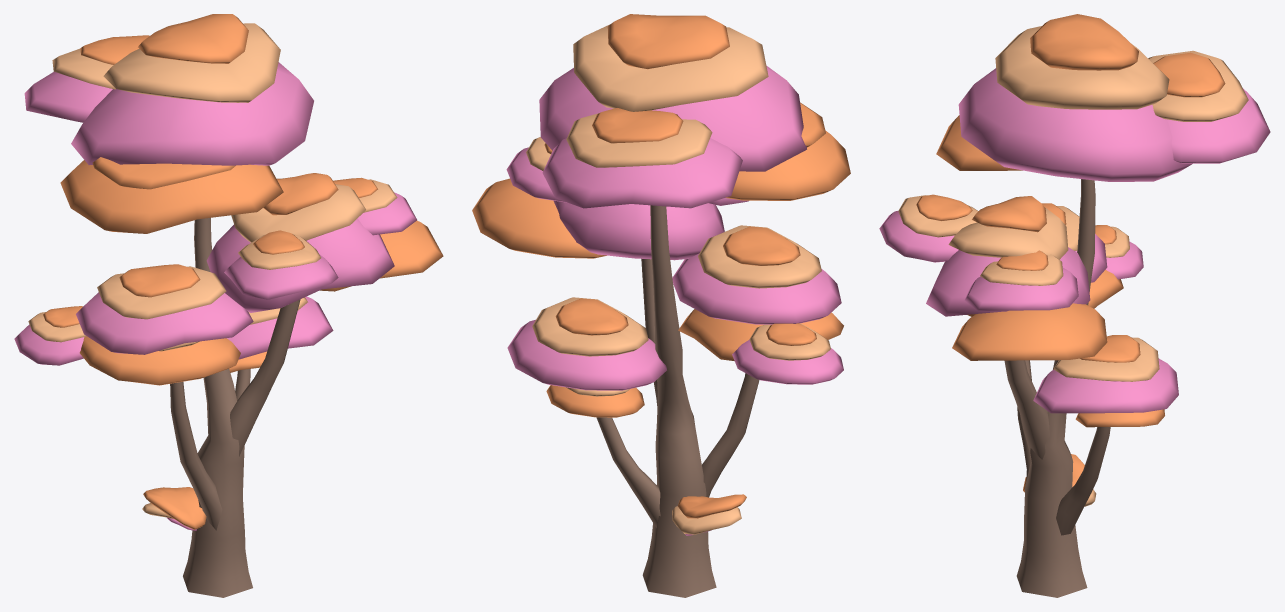
Rendered from C_Tree_3.fbx.
3 renders of one model, left to right at view 1: azimuth 30°, elevation 25°; view 2: azimuth 150°, elevation 25°; view 3: azimuth 270°, elevation 25°, orthographic. The views are drawn at different scales.
Visible parts, largest first — view 1: Sphere.009; view 2: Sphere.009; view 3: Sphere.009.
Part boxes in pixels (x1,y1,x2,y2): Sphere.009: [14, 14, 443, 597]; Sphere.009: [472, 14, 850, 597]; Sphere.009: [879, 14, 1270, 597].
Size of the model in its own units: 1267 by 1951 by 1391.
